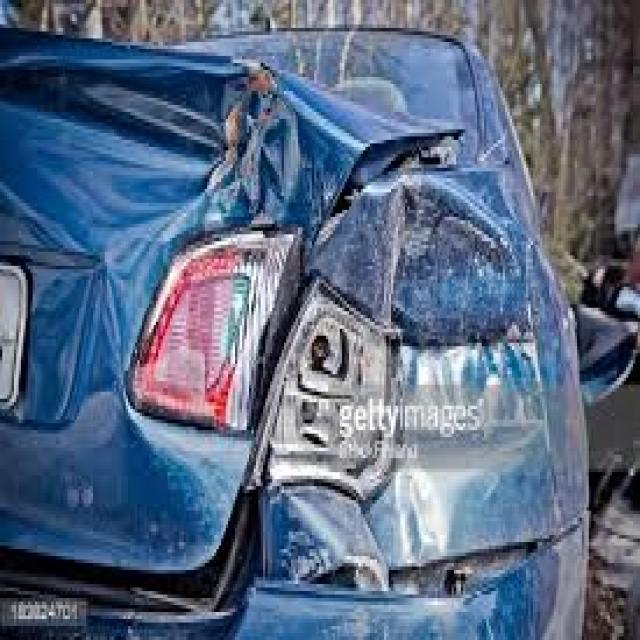severe: (38, 19, 566, 640)
